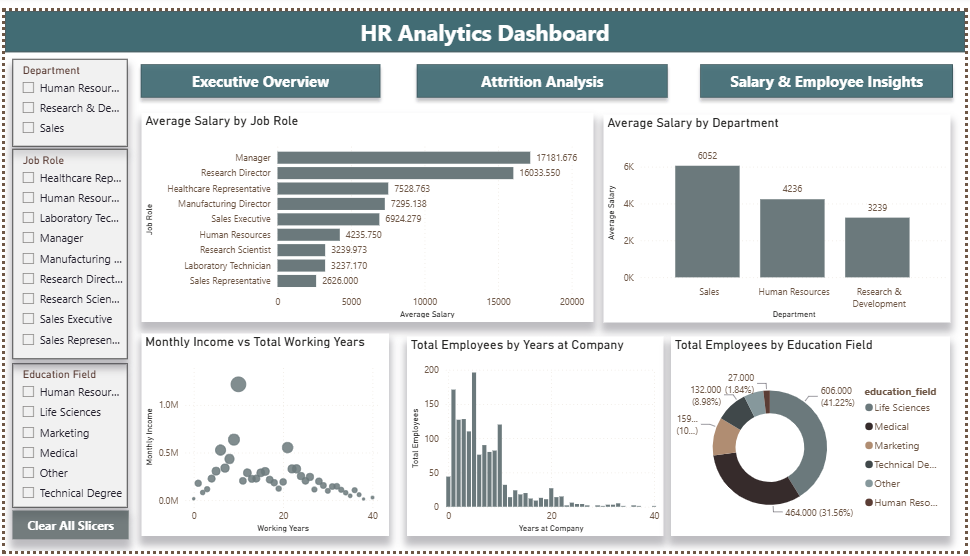

This screenshot's page, from the dashboard's own definition file:
{"tool":"powerbi","page":{"name":"Salary & Employee Insights","canvas":[1280,720],"ordinal":2},"visuals":[{"type":"slicer","fields":{"Values":["public hr_data.education_field"]},"box":[10,470,153.3,191.7],"z":0},{"type":"shape","box":[0,0,1280,55],"z":1000},{"type":"actionButton","box":[540,62.5,352.5,62.5],"z":2000},{"type":"actionButton","box":[172.5,62.5,337.5,62.5],"z":3000},{"type":"actionButton","box":[917.5,62.5,355,62.5],"z":4000},{"type":"actionButton","box":[10,665,155,38.3],"z":5000},{"type":"clusteredBarChart","title":"Average Salary by Job Role","fields":{"Category":["public hr_data.job_role"],"Y":["public hr_data.Average Salary"]},"box":[181.4,135.7,602.9,278.6],"z":6000},{"type":"columnChart","title":"Average Salary by Department","fields":{"Y":["public hr_data.Average Salary"],"Category":["public hr_data.department"]},"box":[797.1,137.1,462.9,277.1],"z":7000},{"type":"scatterChart","title":"Monthly Income vs Total Working Years","fields":{"X":["public hr_data.total_working_years"],"Y":["Sum(public hr_data.monthly_income)"],"Size":["Sum(public hr_data.monthly_income)"]},"box":[181.7,430,330,270],"z":8000},{"type":"columnChart","title":"Total Employees by Years at Company","fields":{"Category":["public hr_data.years_at_company"],"Y":["public hr_data.Total Employees"]},"box":[536,434,342,266],"z":9000},{"type":"donutChart","title":"Total Employees by Education Field","fields":{"Y":["public hr_data.Total Employees"],"Category":["public hr_data.education_field"]},"box":[888,434,372,266],"z":10000},{"type":"slicer","fields":{"Values":["public hr_data.department"]},"box":[10,63.3,153.3,116.7],"z":11000},{"type":"slicer","fields":{"Values":["public hr_data.job_role"]},"box":[10,183.3,153.3,280],"z":12000}]}

Visuals, with their boxes in screenshot pixels (x1, y1, x2, y2), scaled from the page's 1280x720 canvas onto the 970x556 screenshot:
slicer - public hr_data.education_field: locate(8, 363, 124, 511)
shape: locate(0, 0, 969, 42)
actionButton: locate(409, 48, 676, 97)
actionButton: locate(131, 48, 386, 97)
actionButton: locate(695, 48, 964, 97)
actionButton: locate(8, 514, 125, 543)
"Average Salary by Job Role" clusteredBarChart: locate(137, 105, 594, 320)
"Average Salary by Department" columnChart: locate(604, 106, 955, 320)
"Monthly Income vs Total Working Years" scatterChart: locate(138, 332, 388, 541)
"Total Employees by Years at Company" columnChart: locate(406, 335, 665, 541)
"Total Employees by Education Field" donutChart: locate(673, 335, 955, 541)
slicer - public hr_data.department: locate(8, 49, 124, 139)
slicer - public hr_data.job_role: locate(8, 142, 124, 358)
